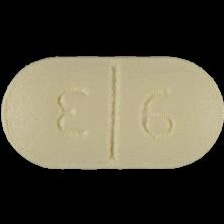0093-5213: (0, 0, 224, 224)
